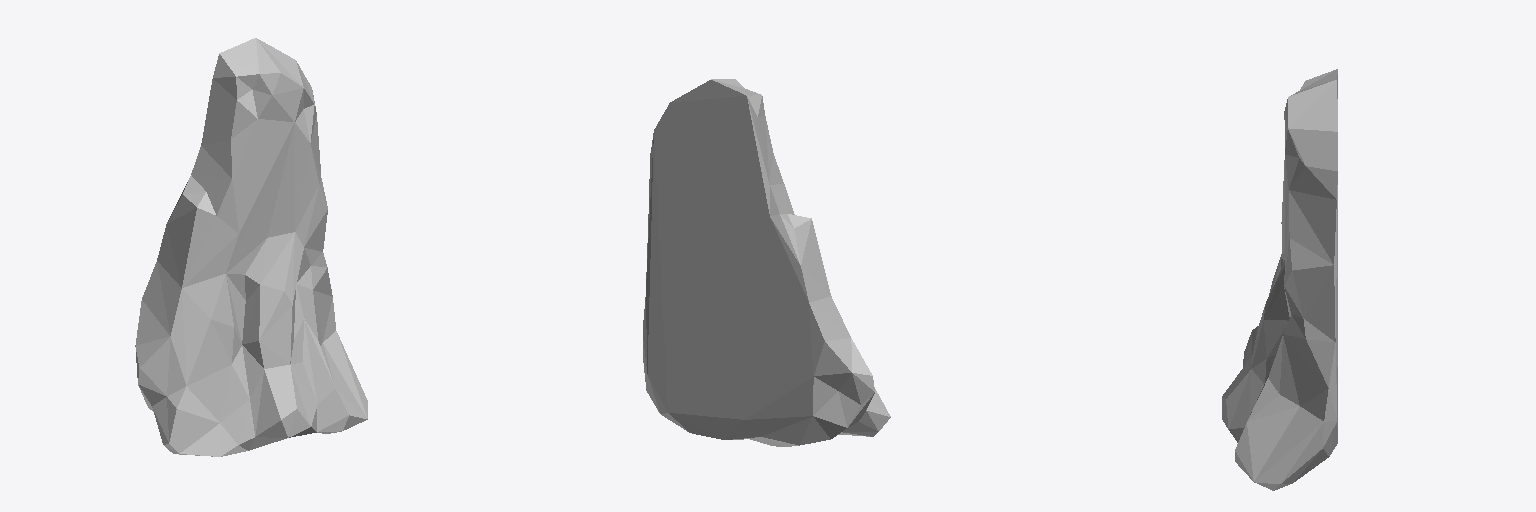
File: MOD_Glacier2.OBJ
The picture shows the model from 3 angles: view 1: azimuth 30°, elevation 25°; view 2: azimuth 150°, elevation 25°; view 3: azimuth 270°, elevation 25°; orthographic projection.
Parts seen in each view (by area): view 1: Group24211; view 2: Group24211; view 3: Group24211.
Part boxes in pixels (x1,y1,x2,y2): Group24211: (135,38,367,456); Group24211: (643,79,890,446); Group24211: (1222,69,1337,490).
Bounding box in the file's own units: 12.99 × 21 × 5.8.